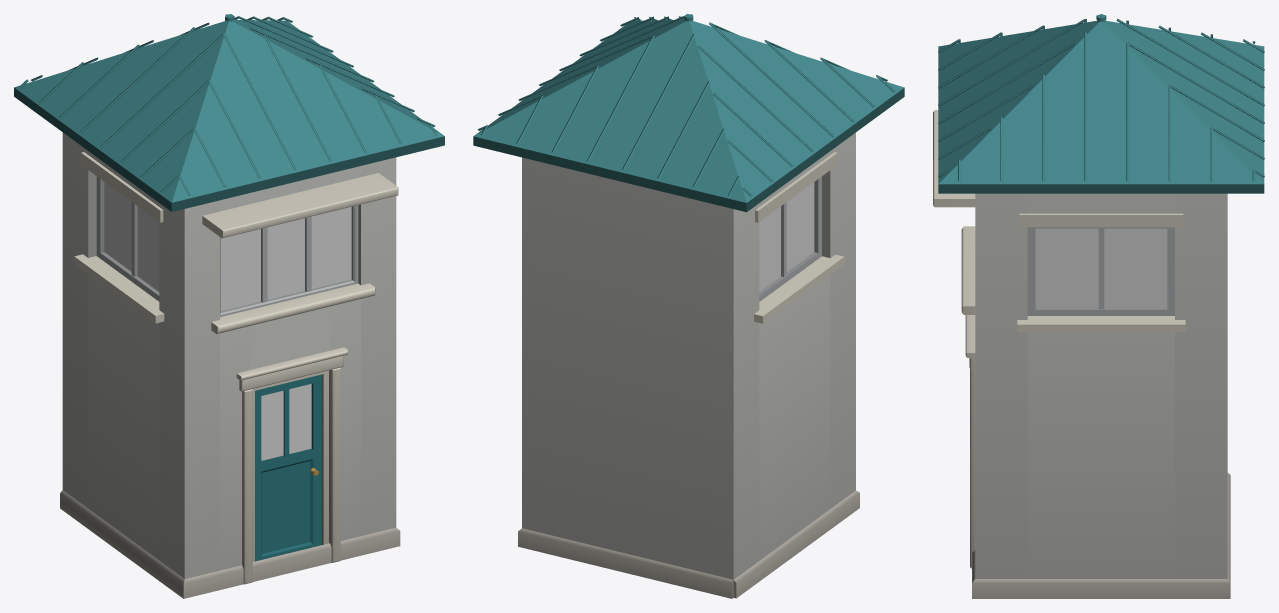
Rendered from DrawTowerFL.fbx.
The picture shows the model from 3 angles, left to right: view 1: azimuth 30°, elevation 25°; view 2: azimuth 150°, elevation 25°; view 3: azimuth 270°, elevation 25°; orthographic projection. The views are drawn at different scales.
Visible parts, largest first — view 1: DrawTowerFL; view 2: DrawTowerFL; view 3: DrawTowerFL.
Part boxes in pixels (box(x1,y1,x2,y2)): DrawTowerFL: box(14, 14, 444, 598); DrawTowerFL: box(473, 14, 904, 598); DrawTowerFL: box(933, 14, 1264, 598).
Size of the model in its own units: 3.11 by 5.54 by 3.15.
